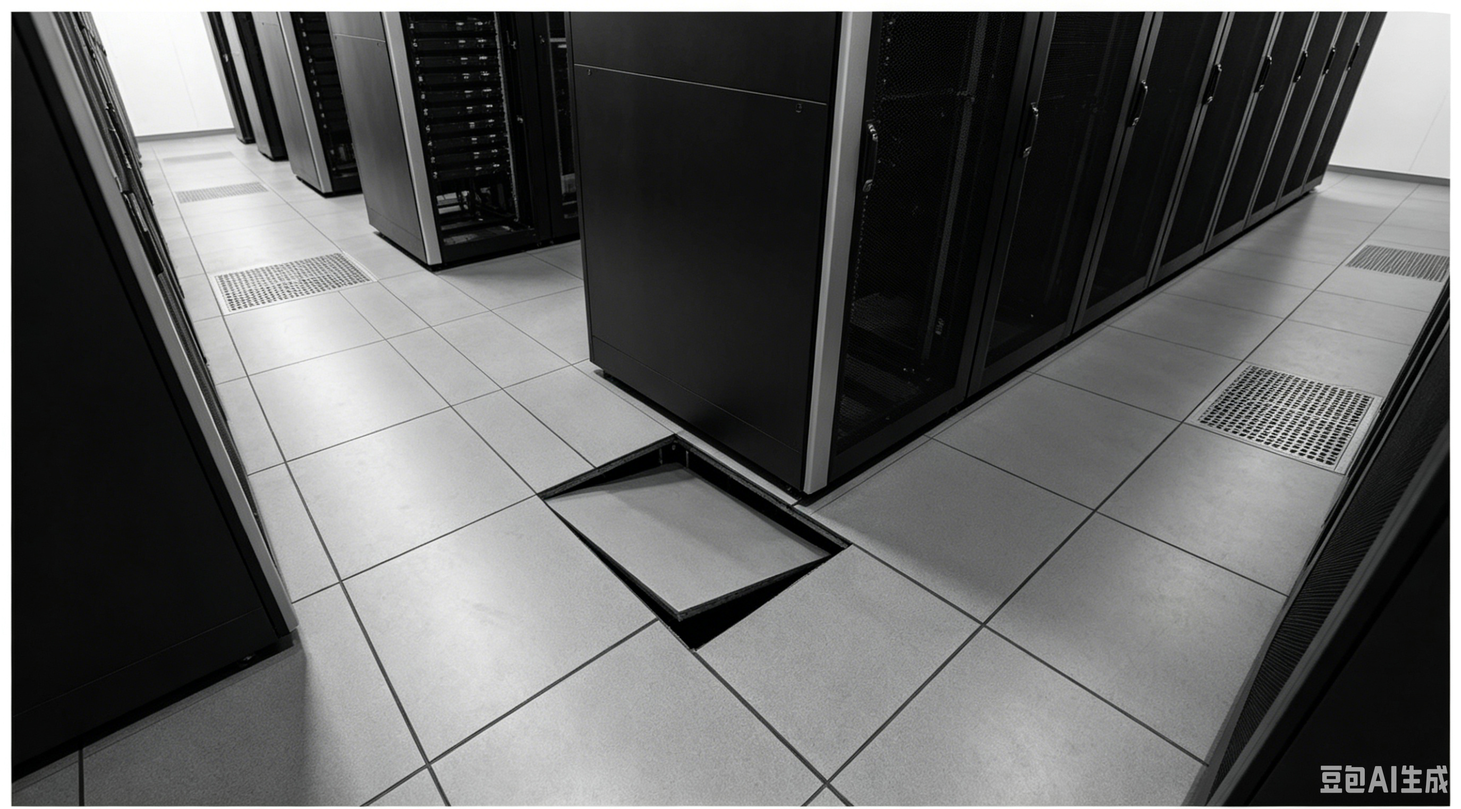floor_defect: (530, 424, 857, 646)
